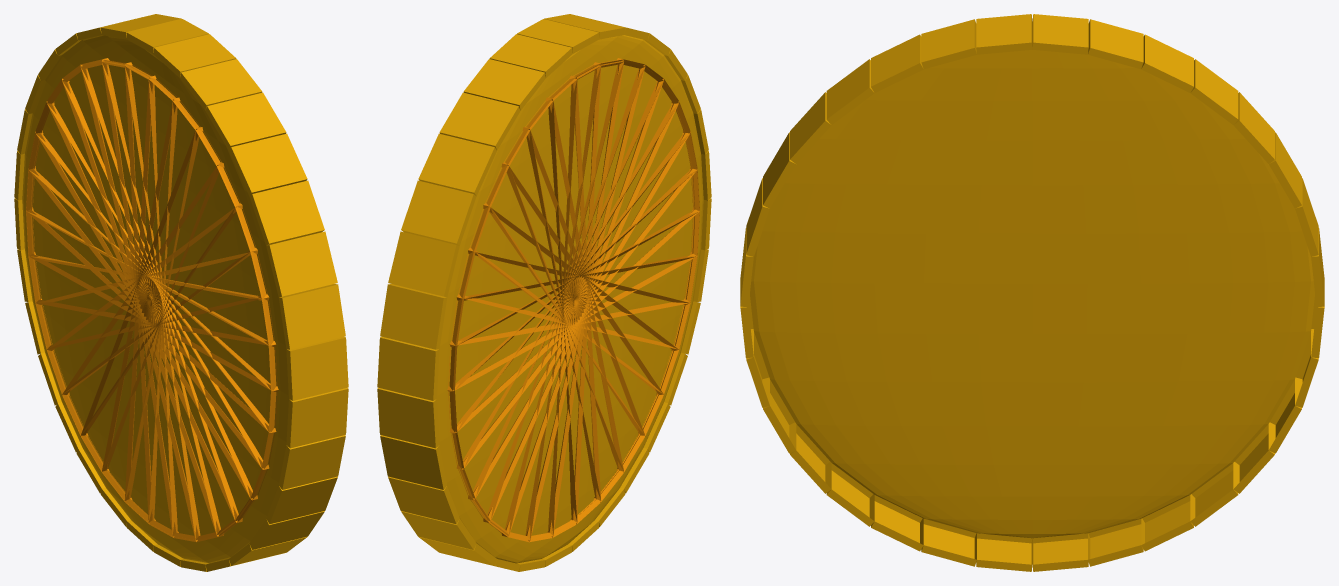
The model's file is yellowDisc.fbx.
3 views of the same model, side by side, from view 1: azimuth 30°, elevation 25°; view 2: azimuth 150°, elevation 25°; view 3: azimuth 270°, elevation 25° (orthographic). The views are drawn at different scales.
Parts seen in each view (by area): view 1: Circle.002, Circle.003; view 2: Circle.002, Circle.003; view 3: Circle.002.
Boxes of the visible parts, bbox=[...] form: Circle.002: bbox=[14, 14, 348, 571]; Circle.003: bbox=[26, 58, 278, 542]; Circle.002: bbox=[377, 14, 711, 571]; Circle.003: bbox=[447, 58, 699, 542]; Circle.002: bbox=[740, 14, 1324, 571].
Bounding box in the file's own units: 18.19 × 144 × 144.
